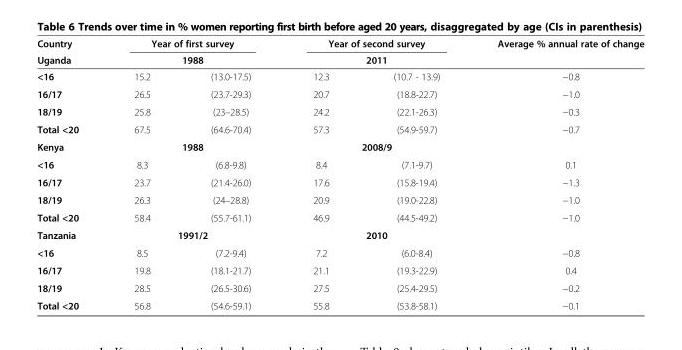table: (36, 37, 643, 311)
table column: (468, 37, 643, 311), (360, 37, 468, 311), (179, 37, 281, 311), (281, 37, 360, 311), (105, 37, 179, 311), (36, 37, 105, 311)
table column header: (36, 37, 643, 84)
table row: (36, 84, 643, 102), (36, 102, 643, 120), (36, 137, 643, 155), (36, 155, 643, 173), (36, 190, 643, 208), (36, 208, 643, 226), (36, 243, 643, 261), (36, 278, 643, 296), (36, 67, 643, 84), (36, 120, 643, 137), (36, 173, 643, 190), (36, 226, 643, 243), (36, 261, 643, 278), (36, 51, 643, 67), (36, 296, 643, 311), (36, 37, 643, 51)
table spanning cell: (468, 37, 643, 84), (281, 37, 468, 67), (105, 37, 281, 67), (281, 137, 468, 155), (36, 37, 105, 84), (281, 226, 468, 243), (105, 137, 281, 155), (105, 226, 281, 243)
